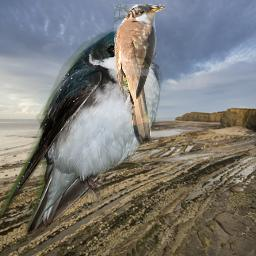Cuckoo: (114, 4, 165, 144)
Swallow: (1, 23, 165, 240)
